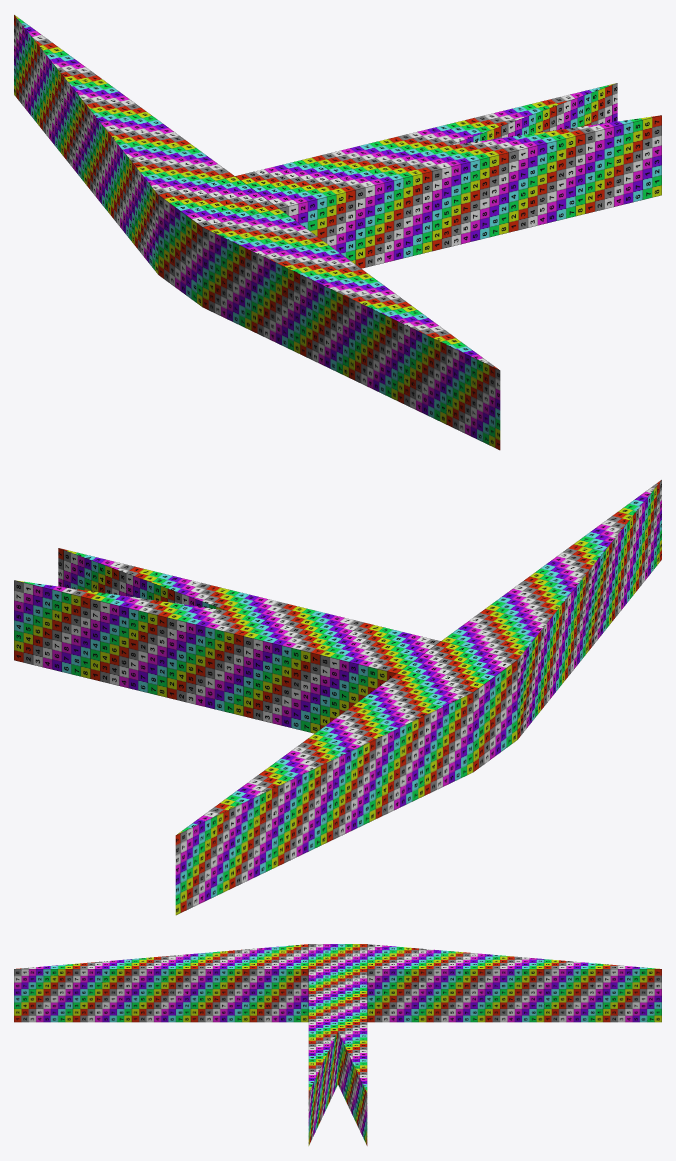
Rendered from garagenrampe5.glb.
3 renders of one model, top to bottom at view 1: azimuth 30°, elevation 25°; view 2: azimuth 150°, elevation 25°; view 3: azimuth 270°, elevation 25°, orthographic. The views are drawn at different scales.
Visible parts, largest first — view 1: twoX, twoY, oneY, oneX, Cube; view 2: oneX, oneY, twoY, twoX, Cube; view 3: oneY, twoY, oneX, twoX, Cube.
Boxes of the visible parts, x1,y1,x2,y2 form: twoX: (203,115,661,268); twoY: (202,183,500,450); oneY: (14,15,277,274); oneX: (160,83,617,226); Cube: (158,176,278,306); oneX: (14,580,514,733); oneY: (175,645,515,915); twoY: (400,480,661,739); twoX: (58,548,511,673); Cube: (397,641,517,771); oneY: (310,944,661,1022); twoY: (14,944,355,1022); oneX: (308,944,367,1145); twoX: (308,946,365,1145); Cube: (308,944,367,968).
Size of the model in its own units: 6 by 1 by 11.
Materials: 1 (1 with a texture image).
